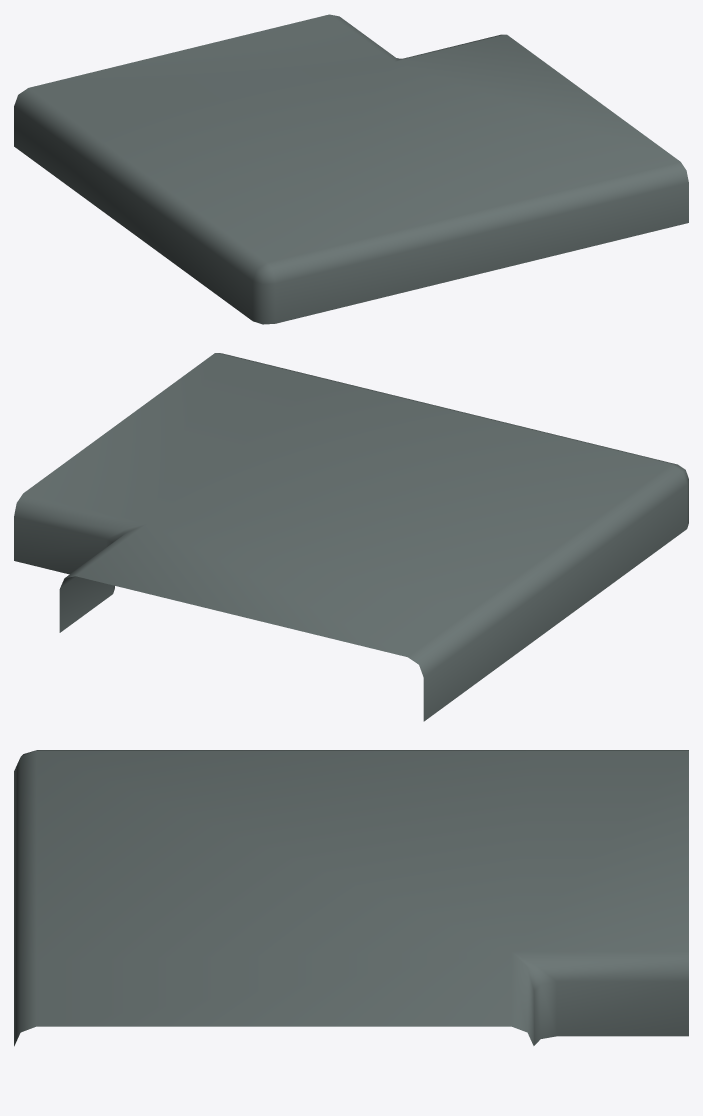
File: road_01_corner.fbx
3 views of the same model, one above another, from view 1: azimuth 30°, elevation 25°; view 2: azimuth 150°, elevation 25°; view 3: azimuth 270°, elevation 25° (orthographic). The views are drawn at different scales.
Visible parts, largest first — view 1: road_01_corner; view 2: road_01_corner; view 3: road_01_corner.
Boxes of the visible parts, x1,y1,x2,y2 form: road_01_corner: (14,14,688,324); road_01_corner: (14,353,688,721); road_01_corner: (14,750,688,1046).
Bounding box in the file's own units: 16.26 × 2 × 16.26.
